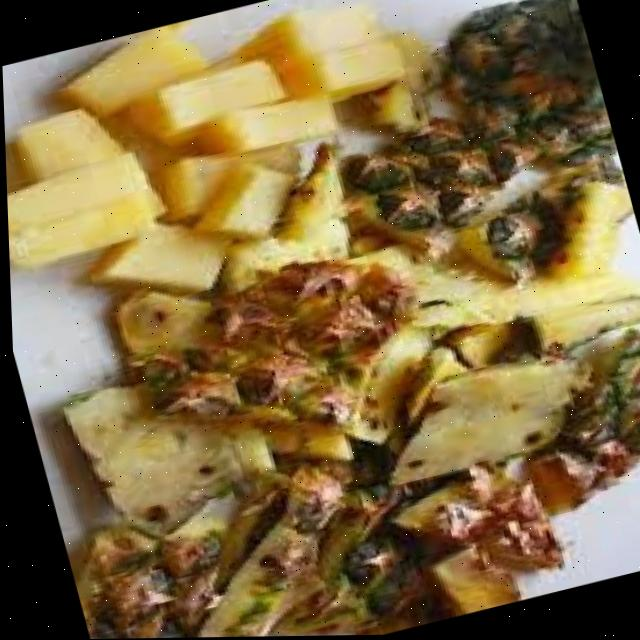Wet: (0, 0, 640, 640), (110, 221, 458, 495)
